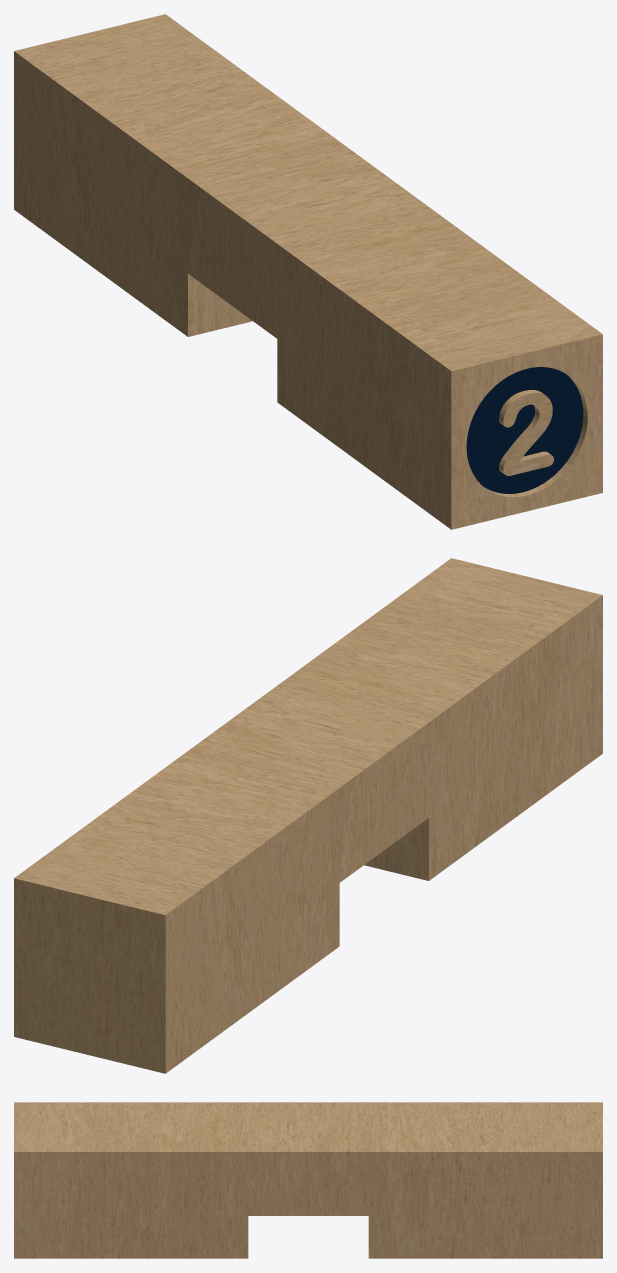
The model's file is Piece2.glb.
The picture shows the model from 3 angles, top to bottom: view 1: azimuth 30°, elevation 25°; view 2: azimuth 150°, elevation 25°; view 3: azimuth 270°, elevation 25°; orthographic projection. The views are drawn at different scales.
Parts seen in each view (by area): view 1: Piece2; view 2: Piece2; view 3: Piece2.
Part boxes in pixels (box(x1,y1,x2,y2)): Piece2: box(14, 14, 602, 529); Piece2: box(14, 558, 602, 1073); Piece2: box(14, 1102, 602, 1258).
Bounding box in the file's own units: 10 × 10 × 50.
2 materials, 1 textured.
